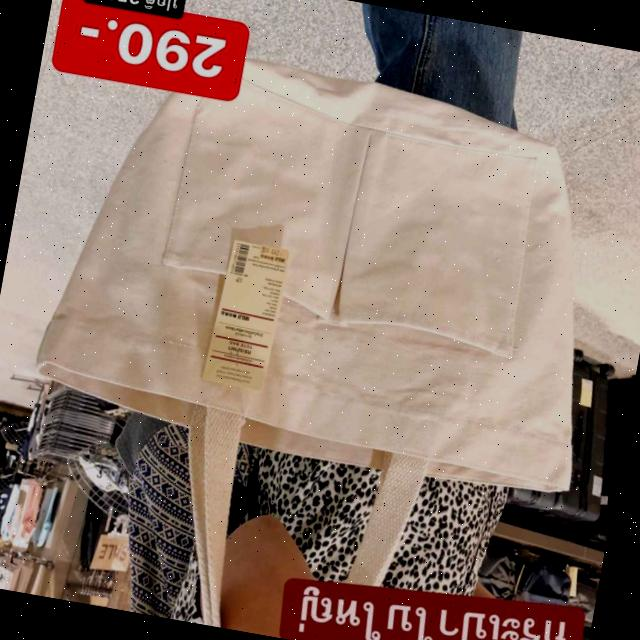Handbag: (24, 40, 622, 518)
